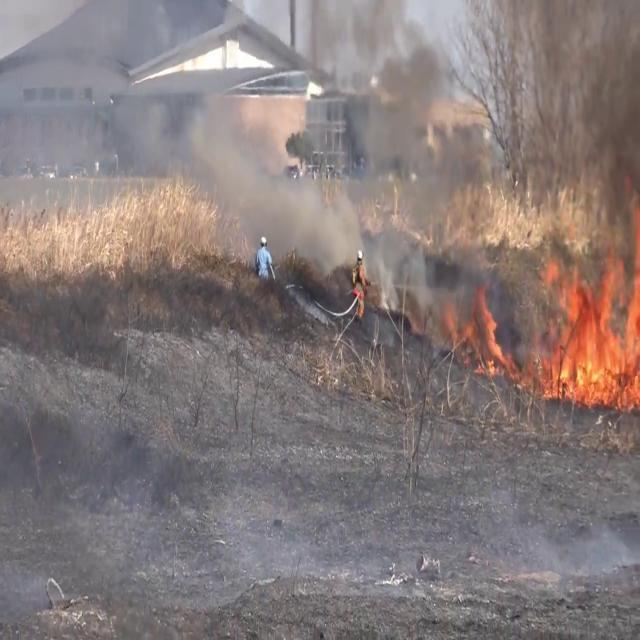Fire: (540, 189, 640, 409), (439, 282, 509, 374)
Smoke: (110, 0, 508, 272)
